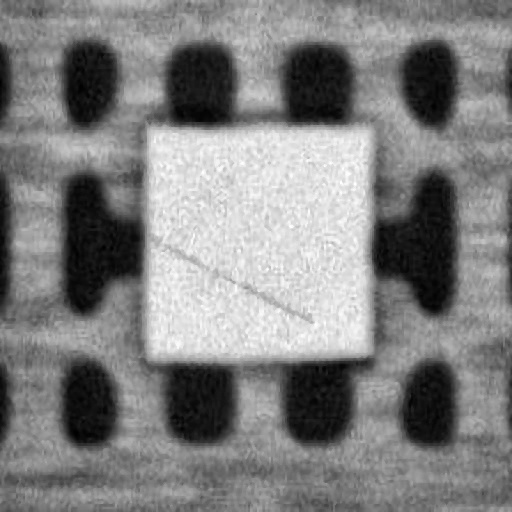DIE_CRACK: (223, 158, 464, 212)
